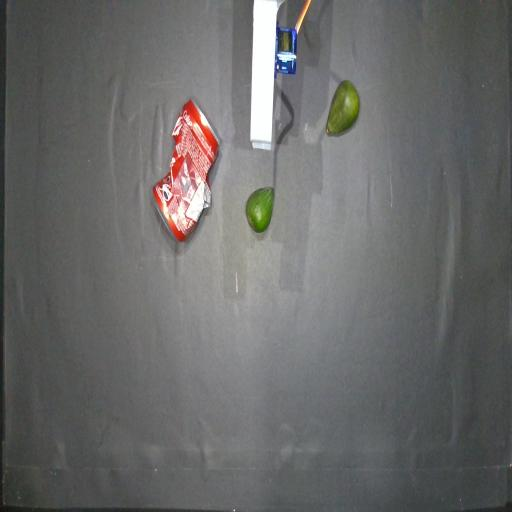higo: (326, 81, 359, 136), (246, 187, 274, 232)
lata_defectuoso: (153, 100, 218, 241)
